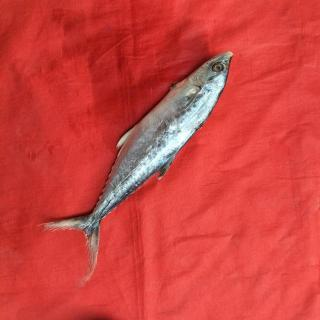Ikan: (41, 37, 242, 293)
